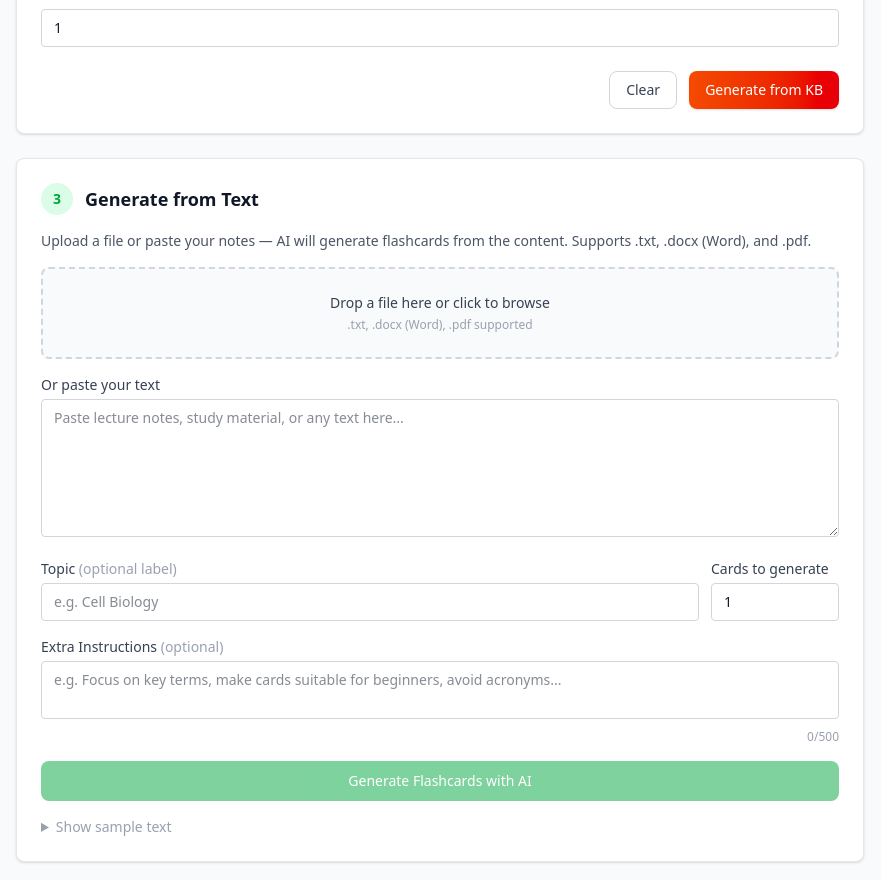
Scenario: CreateCardPage — generate from text › Generate button enabled when text is pasted
This screenshot has width=881, height=880.
(page scrolled)
Type "Some study notes about biology" into the text box with placeholder "Paste lecture notes, study material, or any text here..." at x=440, y=468, box [41,399,839,537]
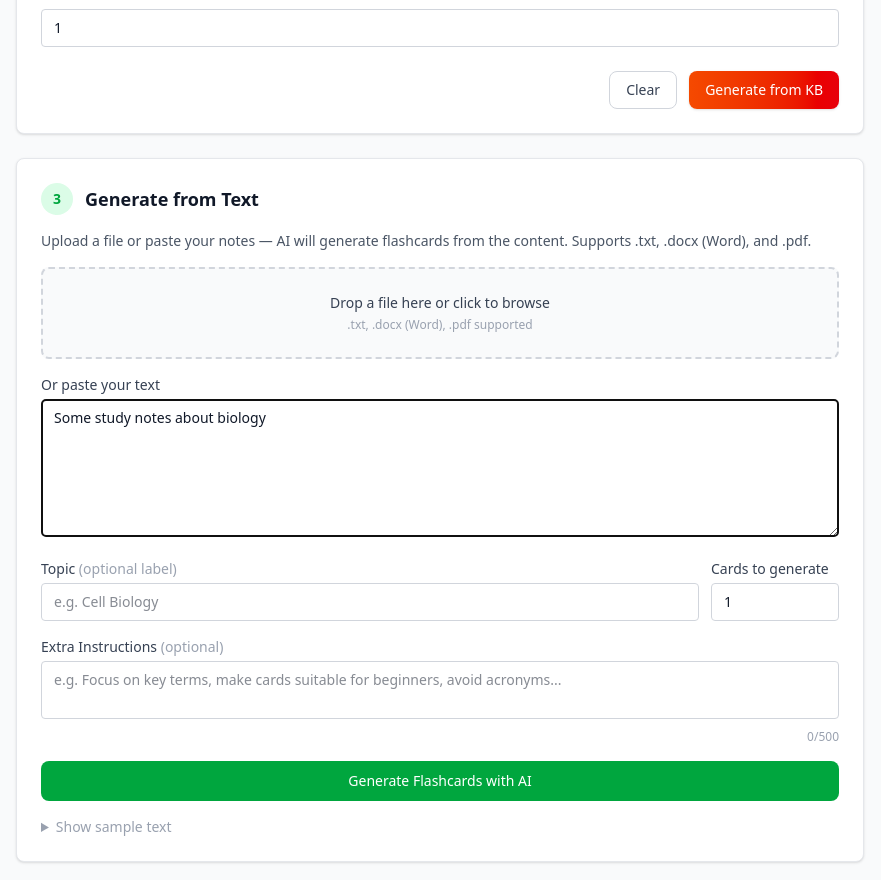
Check: the button "Generate Flashcards with AI" is enabled, box [41,761,839,801]
